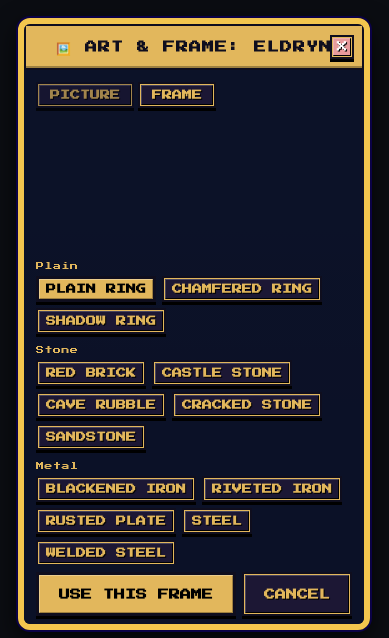
the Frame tab, after review › offers a frame colour only for frames that take one
The width and height of the screenshot is (389, 638).
Click the button "Castle stone" at (222, 373), box x1=152 y1=360 x2=292 y2=386
(page scrolled)
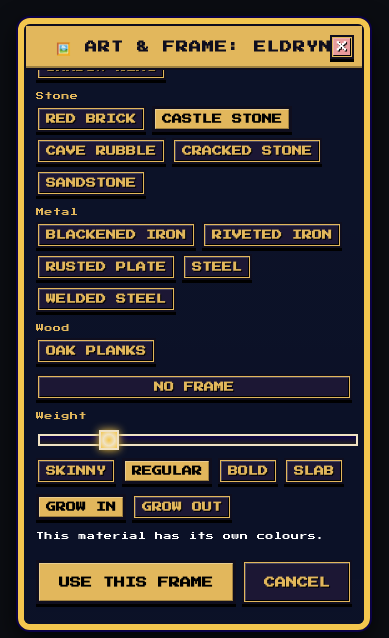
expect the text "This material has its own colours." is shown: met, box x1=36 y1=530 x2=352 y2=542
